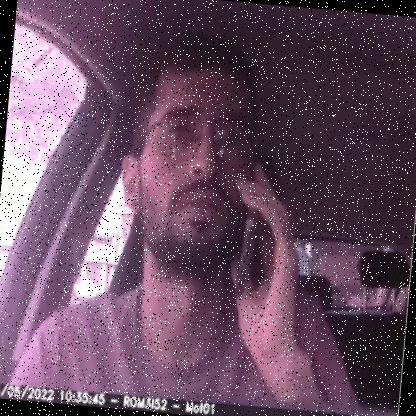phone: (223, 156, 276, 301)
